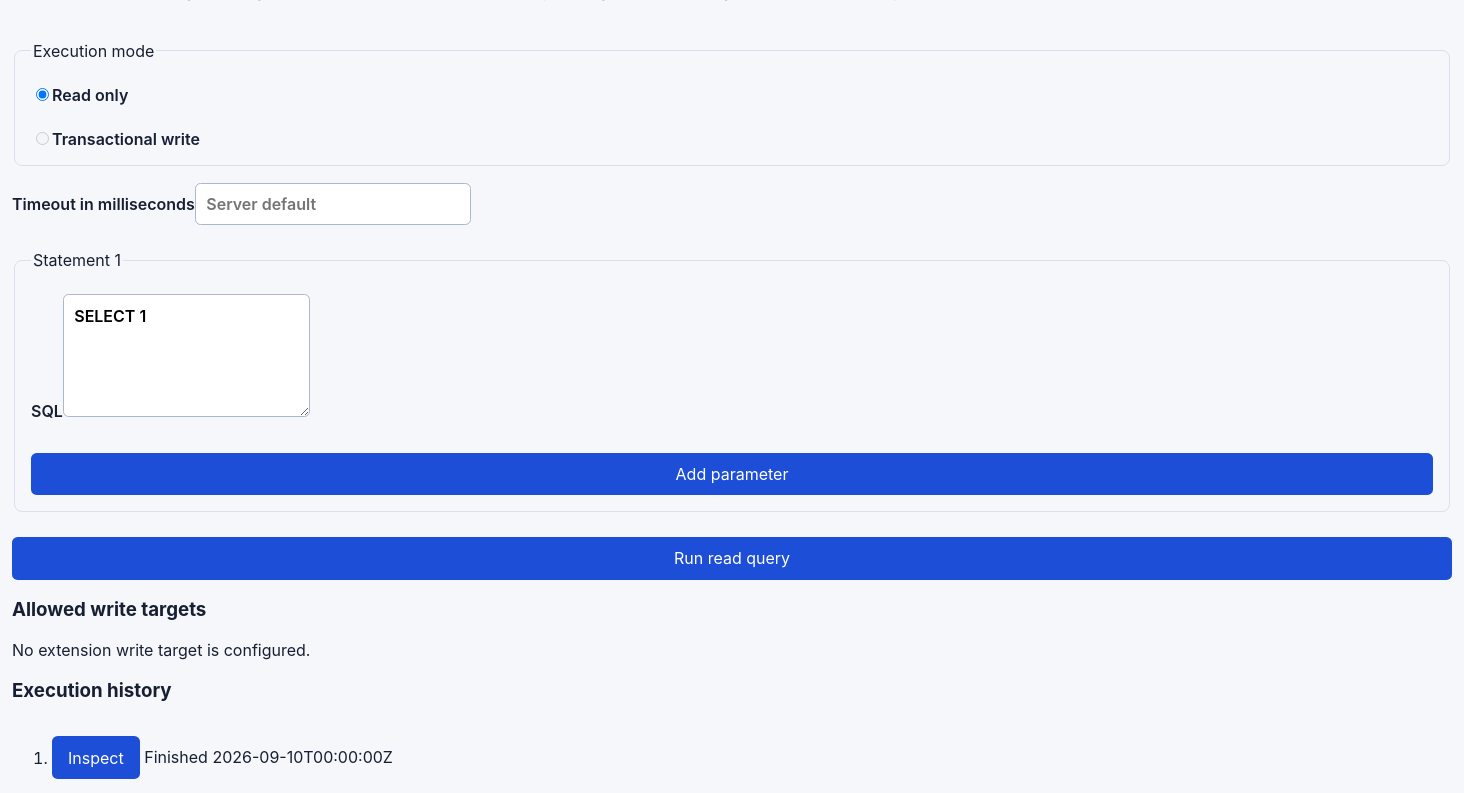
SQL console page › labels a durable summary with omitted statement rows as unavailable (2000-01-01T00:00:00Z)
The width and height of the screenshot is (1464, 793).
(page scrolled)
Click the button "Inspect" at (96, 758), box [52, 736, 140, 779]
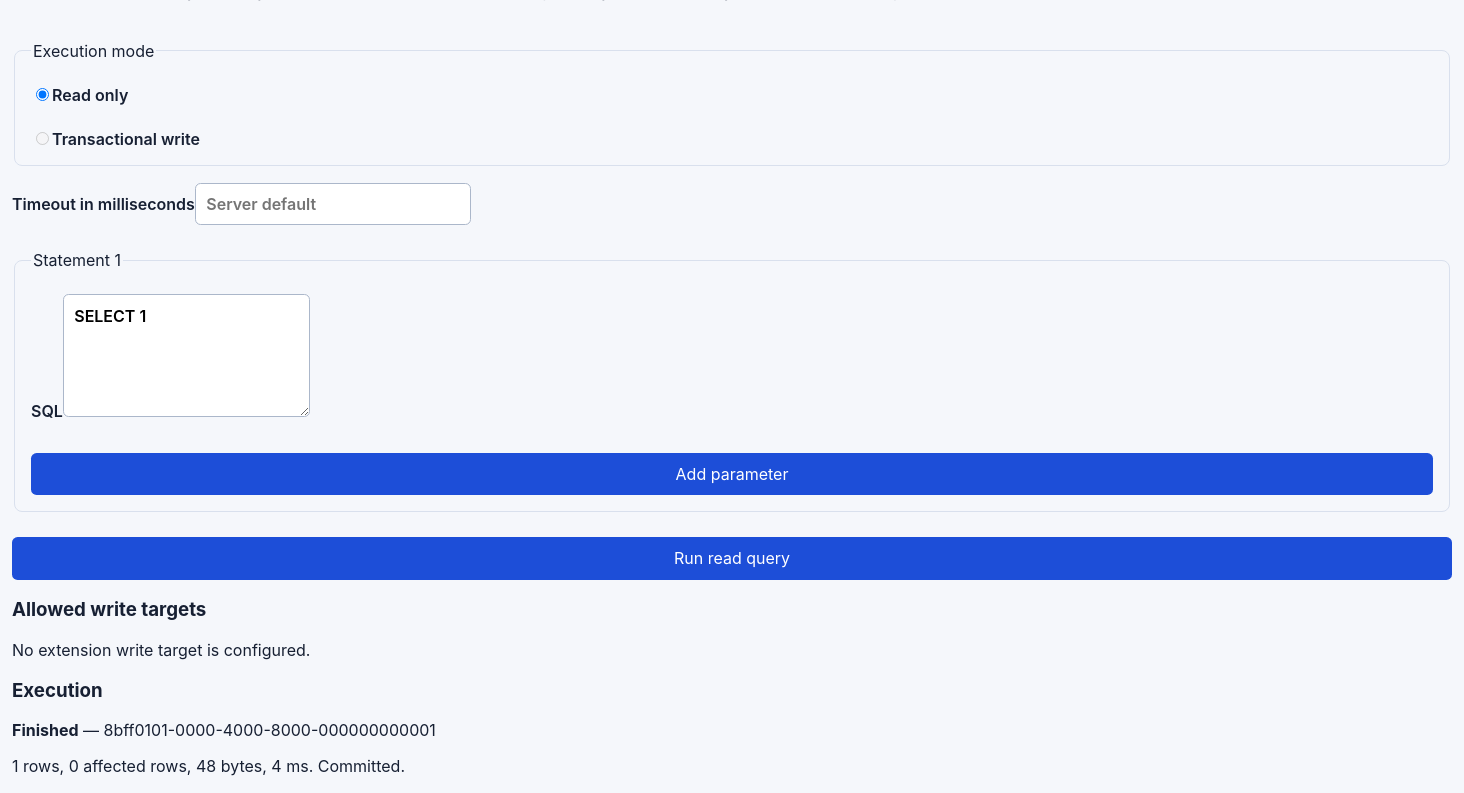
Now the text "1 rows, 0 affected rows, 48 bytes, 4 ms. Committed." is shown, box [12, 756, 405, 776]
